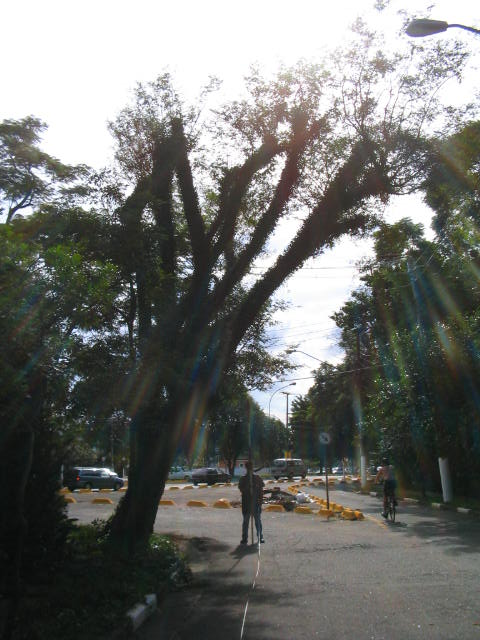stem: (82, 412, 206, 555)
stick: (236, 399, 260, 545)
tree: (78, 105, 405, 556)
